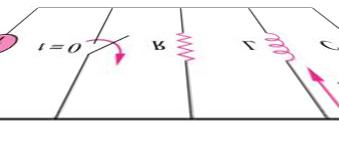inductor: (255, 25, 297, 64)
